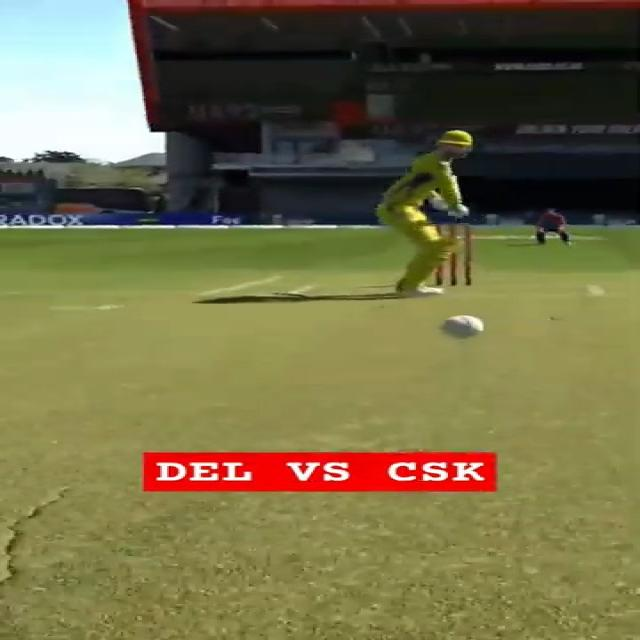ball: (437, 312, 484, 340)
